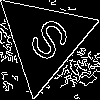S: (19, 15, 73, 72)
